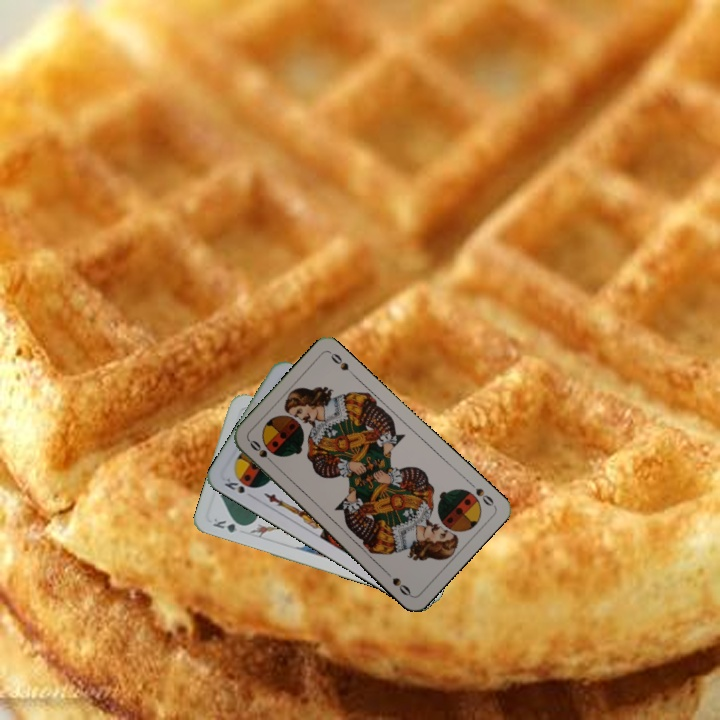GK: (209, 514, 249, 535)
SK: (220, 474, 257, 496)
SO: (245, 436, 277, 468), (464, 477, 496, 509)
